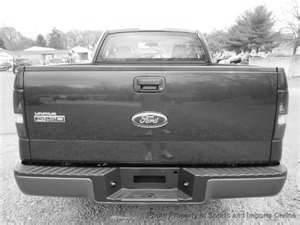car: (13, 29, 290, 210)
